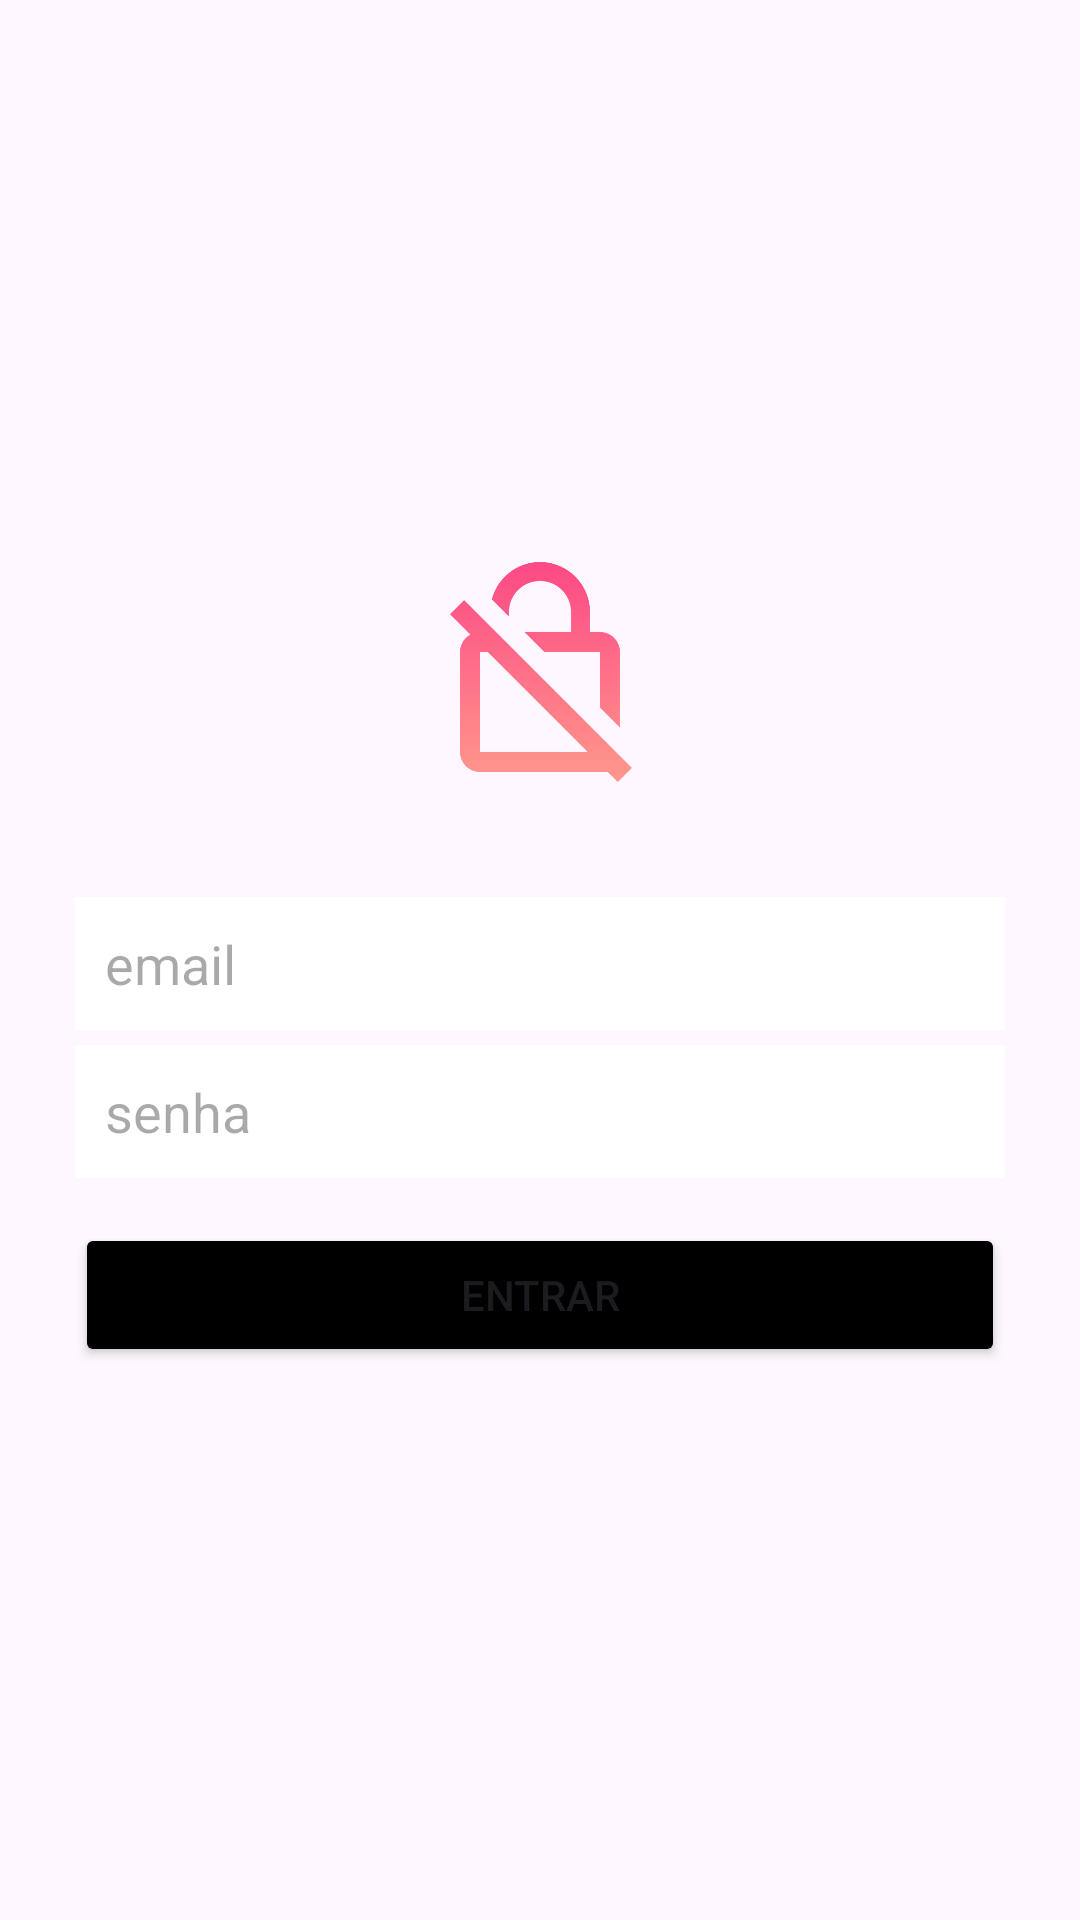

Icons on this 1080 x 1920 Android screen, each with the point to tap as point (x, y):
criptografia: point (541, 672)
